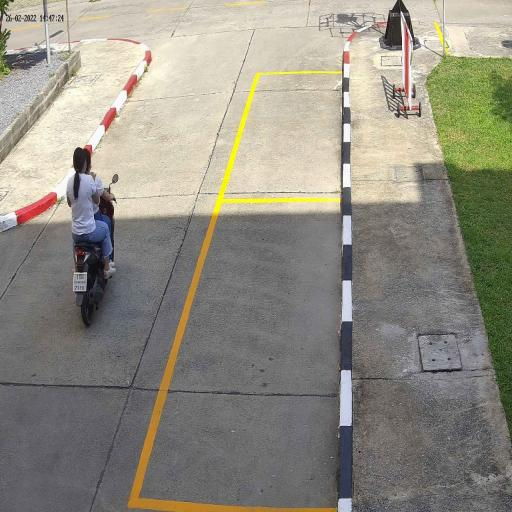motorcycle: (72, 242, 104, 328)
